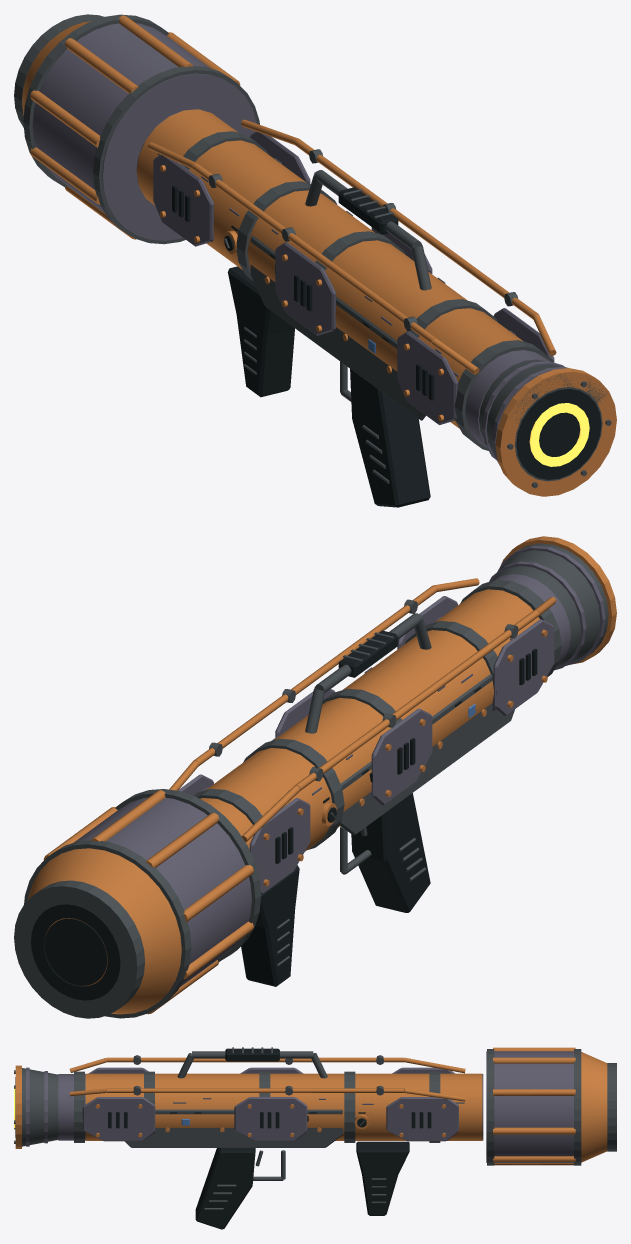
File: heavy_2.glb
3 renders of one model, top to bottom at view 1: azimuth 30°, elevation 25°; view 2: azimuth 150°, elevation 25°; view 3: azimuth 270°, elevation 25°, orthographic. The views are drawn at different scales.
Visible parts, largest first — view 1: Weapon_heavy_v1; view 2: Weapon_heavy_v1; view 3: Weapon_heavy_v1.
Boxes of the visible parts, left/top/right/bottom form: Weapon_heavy_v1: left=14, top=14, right=616, bottom=507; Weapon_heavy_v1: left=14, top=536, right=616, bottom=1018; Weapon_heavy_v1: left=14, top=1047, right=616, bottom=1229.
Size of the model in its own units: 0.195 by 0.318 by 0.993.
